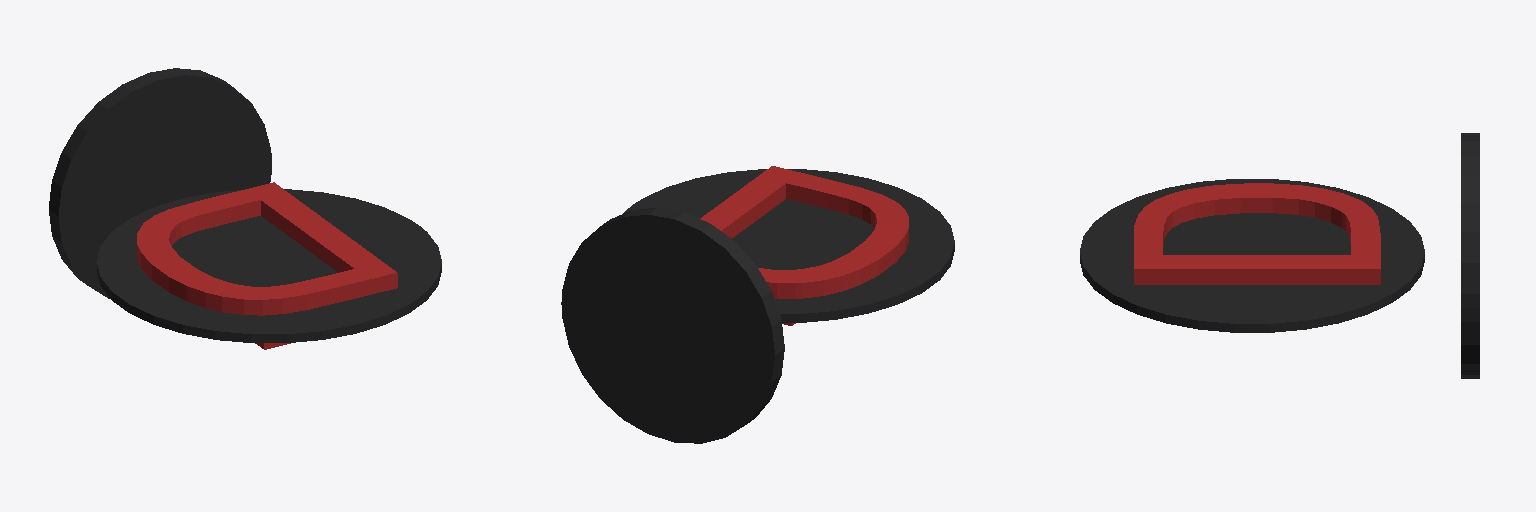
3 views of the same model, side by side, from view 1: azimuth 30°, elevation 25°; view 2: azimuth 150°, elevation 25°; view 3: azimuth 270°, elevation 25° (orthographic).
Visible parts, largest first — view 1: ART_GS[number redacted]_d_A; view 2: ART_GS[number redacted]_d_A; view 3: ART_GS[number redacted]_d_A.
Part boxes in pixels (x1,y1,x2,y2): ART_GS[number redacted]_d_A: (49,68,441,349); ART_GS[number redacted]_d_A: (561,166,954,443); ART_GS[number redacted]_d_A: (1080,133,1479,378).
Size of the model in its own units: 0.349 by 0.2495 by 0.4059.